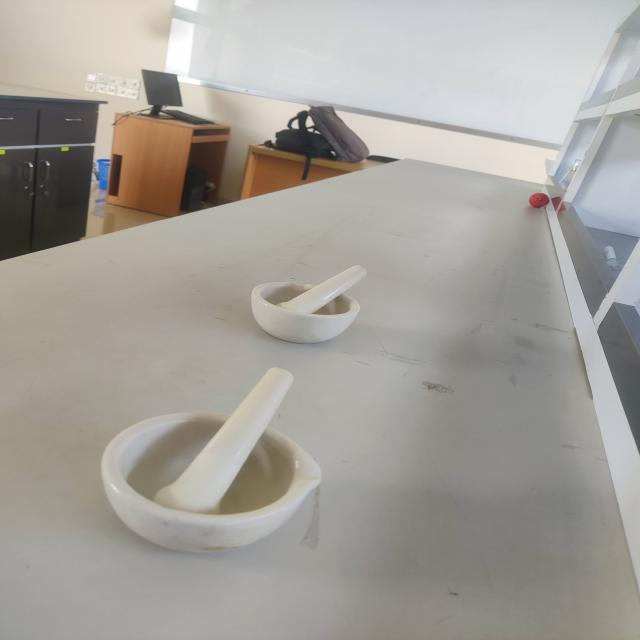Porcelain_Mortar Pestle: (69, 352, 358, 581), (237, 247, 388, 363)
